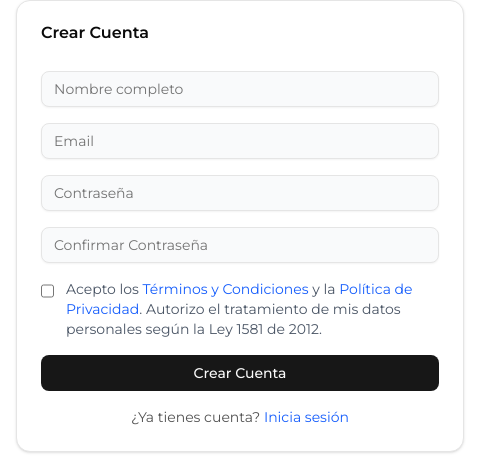
Test: RegisterPage › should show loading state during registration
This screenshot has width=481, height=470.
Note: Fill out and submit the form
Type "Test User" into the field with placeholder "Nombre completo" at (240,89), box [41,71,439,107]
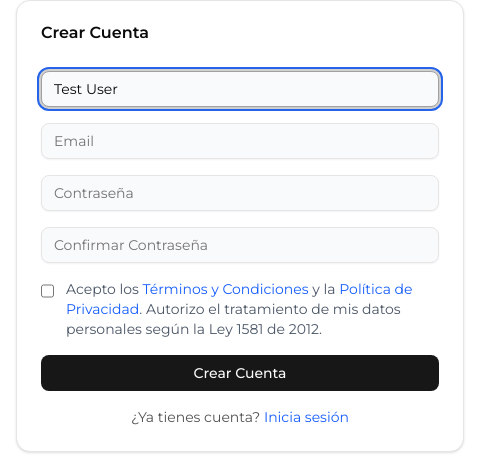
Type "test@example.com" into the field with placeholder "Email" at (240,141), box [41,123,439,159]
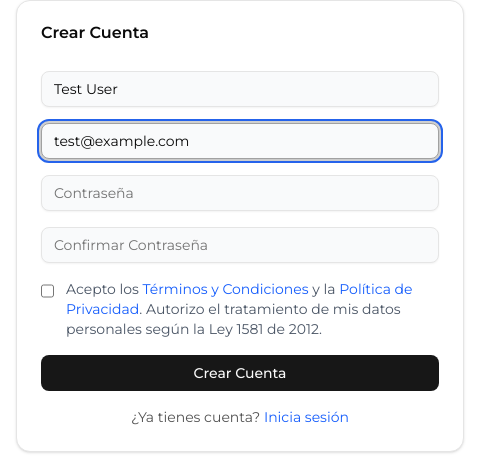
Type "password123" into the password field with placeholder "Contraseña" at (240,193), box [41,175,439,211]
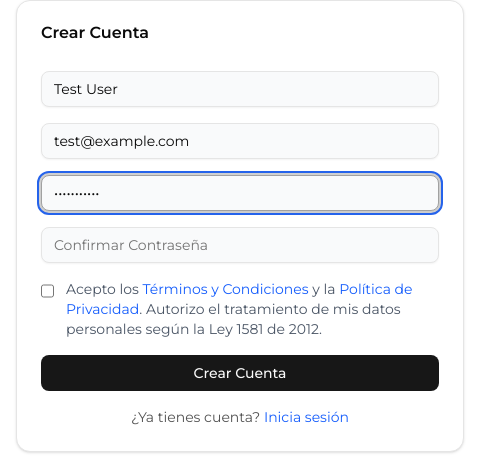
Type "password123" into the password field with placeholder "Confirmar Contraseña" at (240,245), box [41,227,439,263]
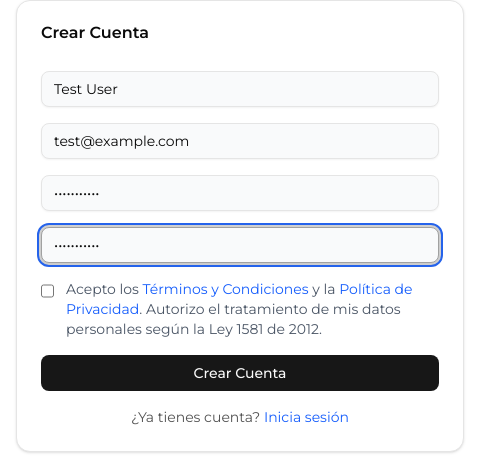
Click the checkbox labelled "Acepto los Términos" at (48,291), box [41,283,54,299]
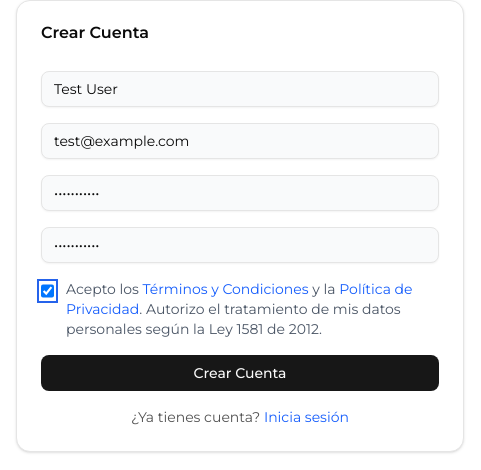
Click the button "Crear Cuenta" at (240,373), box [41,355,439,391]
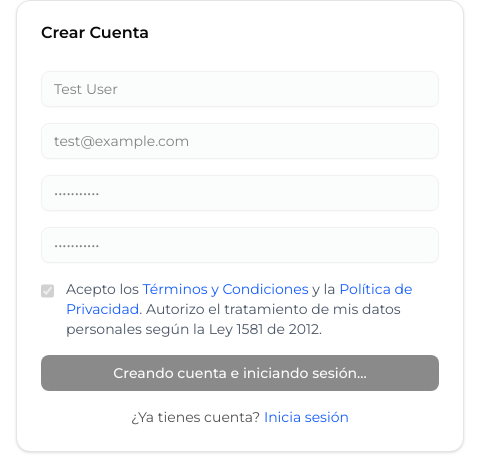
Expected: the button "Creando cuenta e iniciando sesión..." is shown, [41,355,439,391]
Expected: the 1st field with placeholder "Nombre completo" is disabled, [41,71,439,107]
Expected: the 2nd field with placeholder "Email" is disabled, [41,123,439,159]
